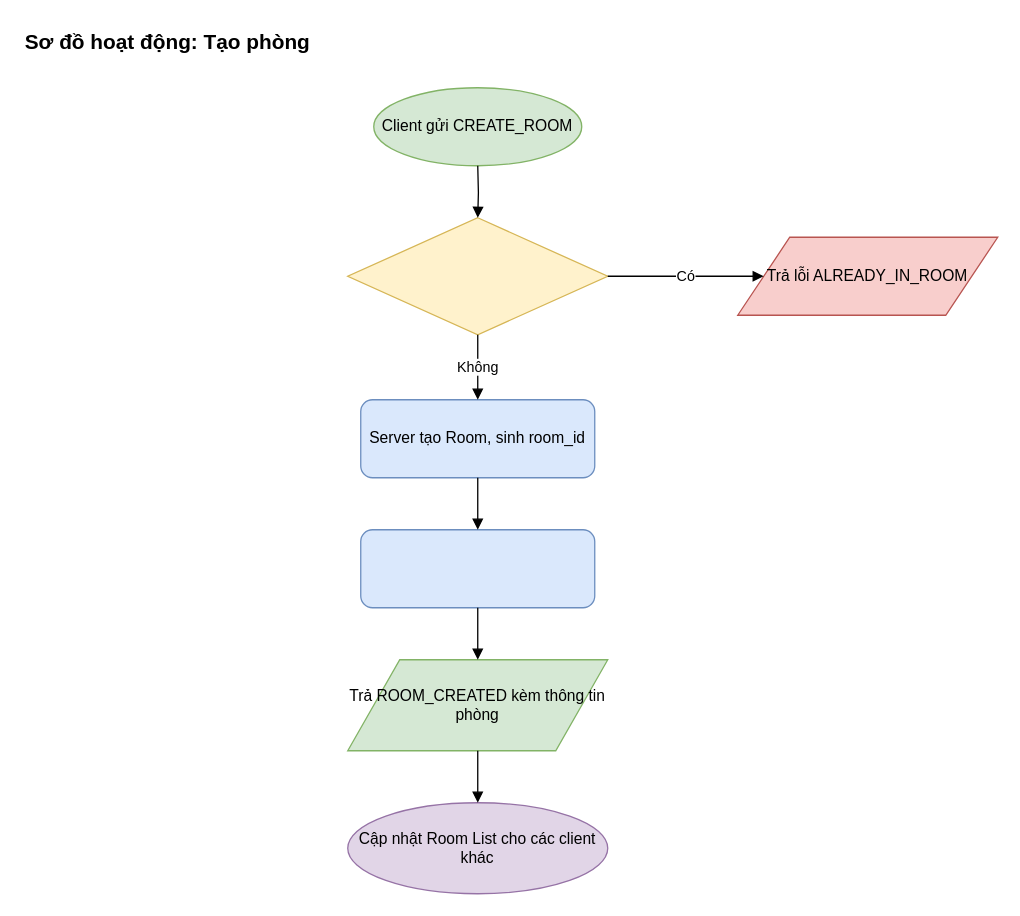
Image size: 1020x916. Some labels were removed from this diagram. Here are the shapes that lost their labels. From the top down, the box of each, then its label:
(346, 216, 608, 335): Đã ở trong phòng khác?
(359, 528, 595, 608): Gán chủ phòng = X, trạng thái WAITING
